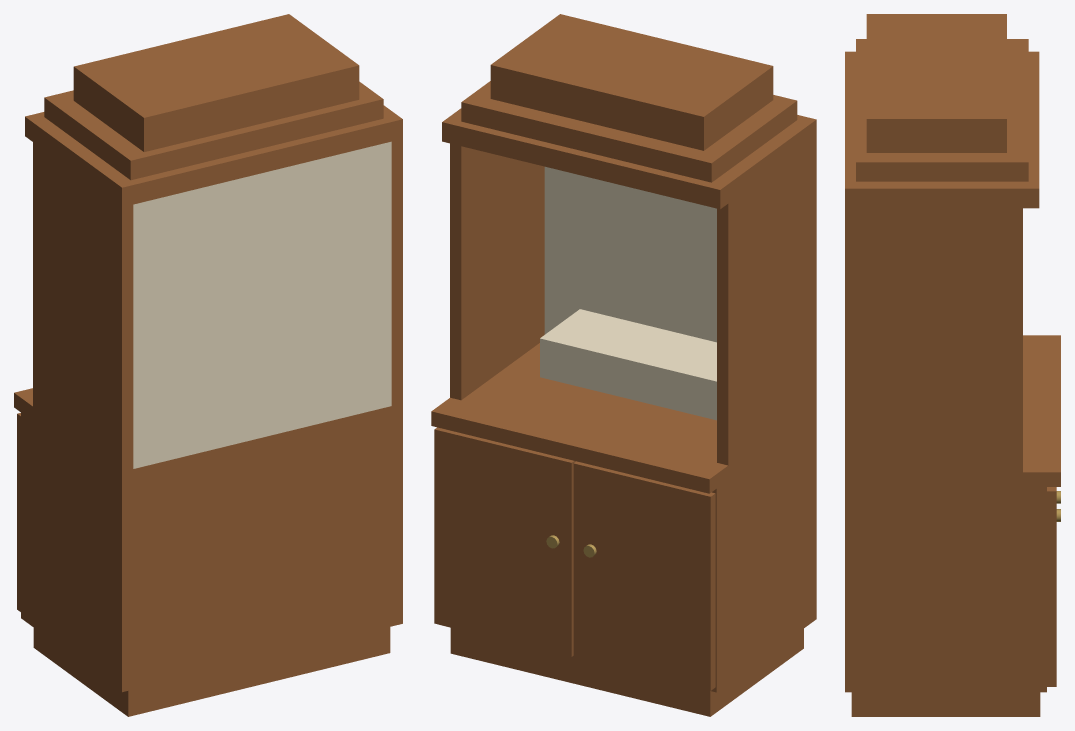
3 renders of one model, left to right at view 1: azimuth 30°, elevation 25°; view 2: azimuth 150°, elevation 25°; view 3: azimuth 270°, elevation 25°, orthographic.
Visible parts, largest first — view 1: plinth, niche-back; view 2: plinth, niche-back; view 3: plinth.
Part boxes in pixels (box(x1,y1,x2,y2)): plinth: box(14, 14, 402, 716); niche-back: box(133, 141, 391, 468); plinth: box(431, 14, 816, 716); niche-back: box(540, 166, 716, 420); plinth: box(845, 14, 1060, 716).
Size of the model in its own units: 0.6 by 1.2 by 0.4.
